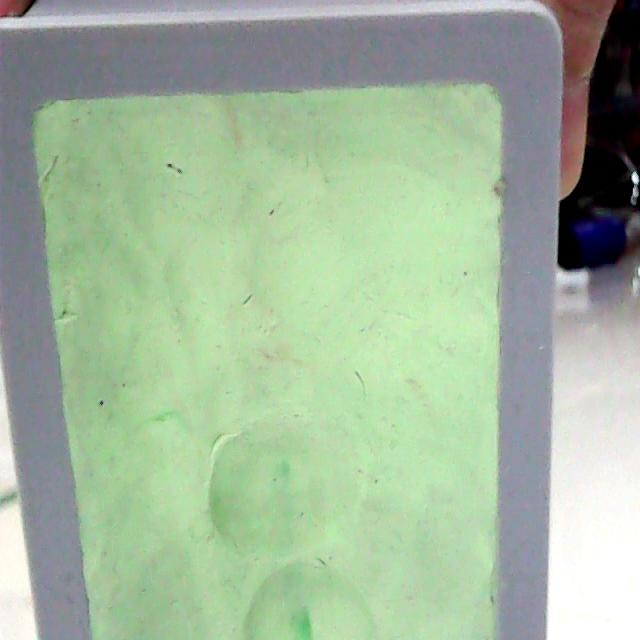block: (0, 4, 568, 635)
